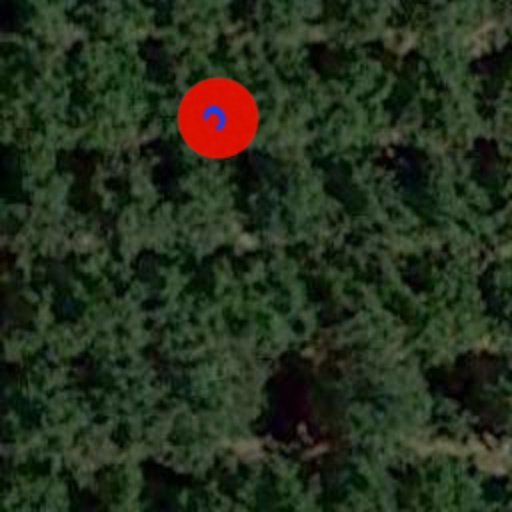circle: (162, 62, 274, 174)
